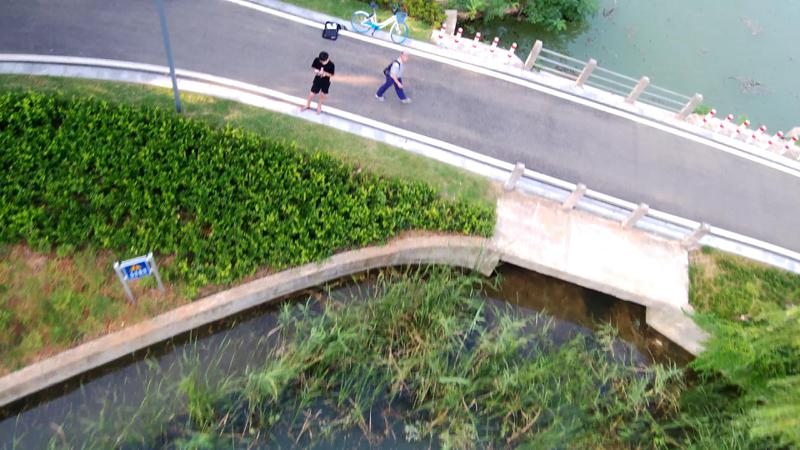passerby: (297, 48, 335, 115), (375, 48, 412, 103)
